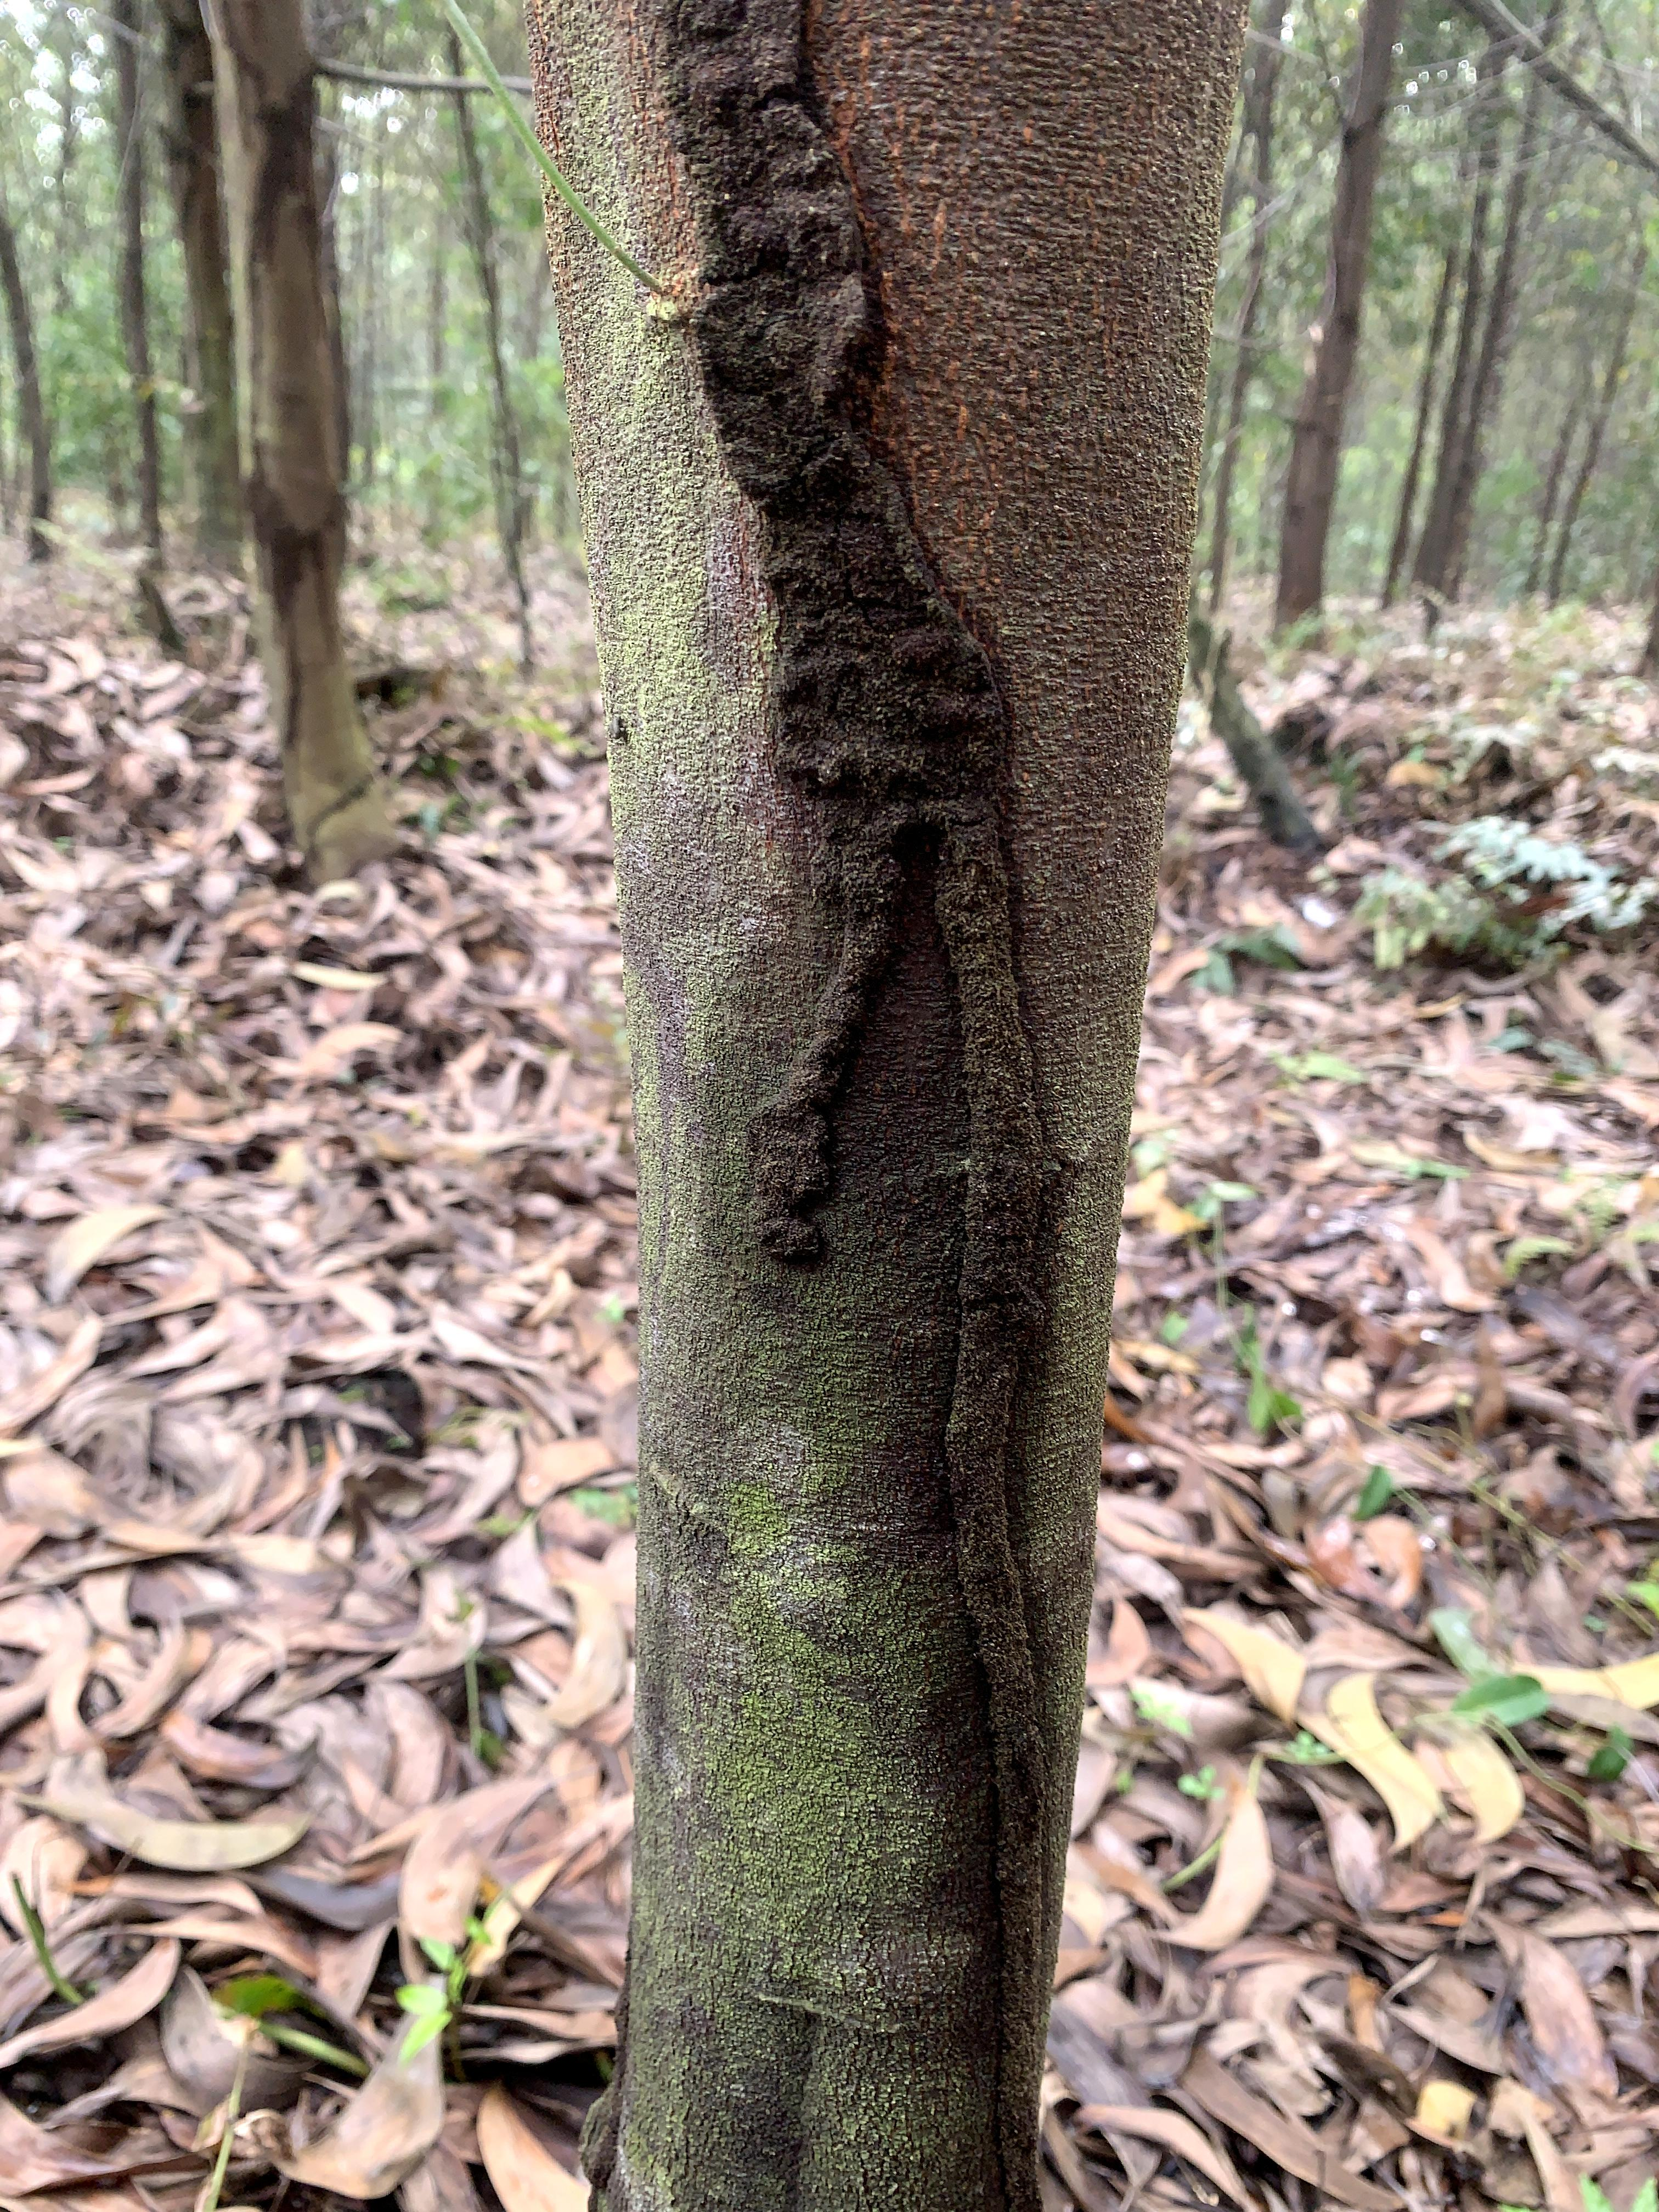Termite - Nest: (615, 0, 1105, 2212)
